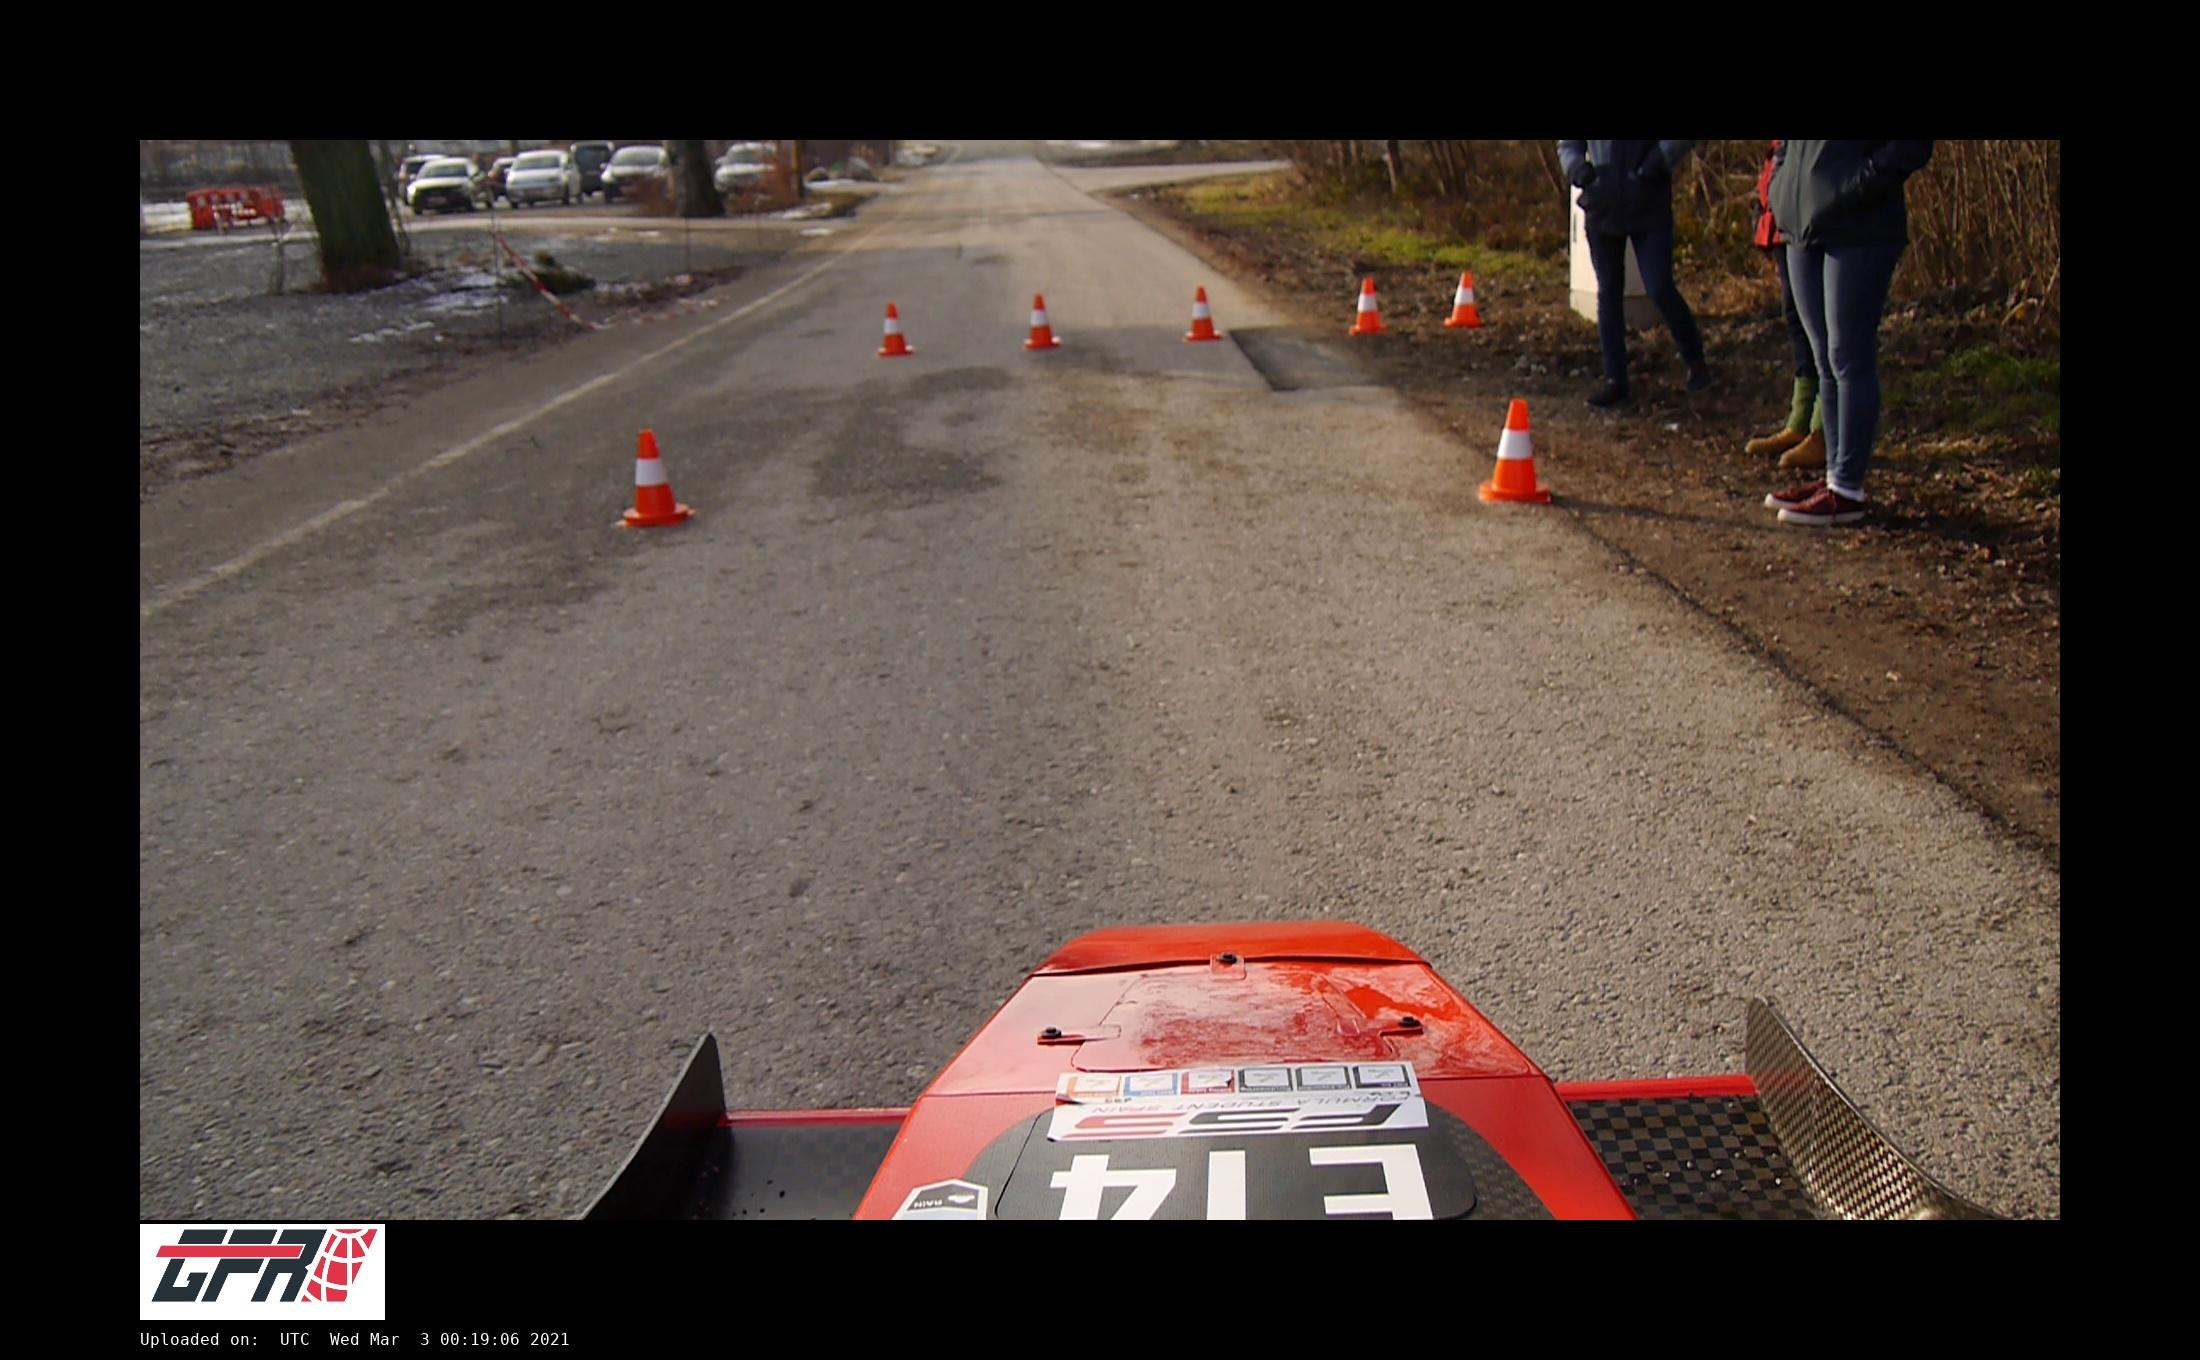orange_cone: (614, 429, 695, 528), (1479, 399, 1546, 498), (1347, 278, 1384, 333), (875, 303, 916, 354), (1025, 294, 1061, 347), (1446, 270, 1482, 322), (1186, 288, 1223, 338)
